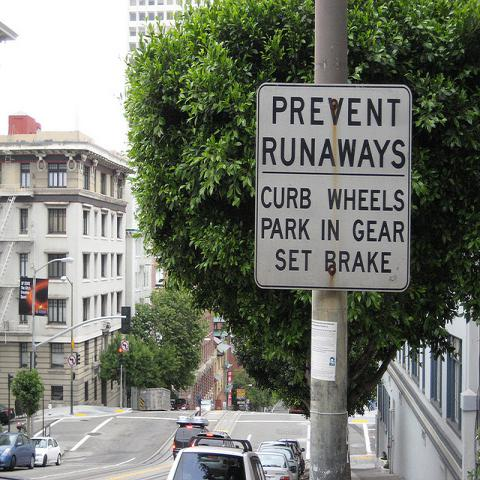car: (167, 436, 264, 480), (173, 416, 210, 459), (257, 446, 302, 479), (0, 433, 36, 470), (254, 451, 294, 479), (30, 437, 62, 467), (278, 440, 306, 474), (171, 398, 191, 411)
